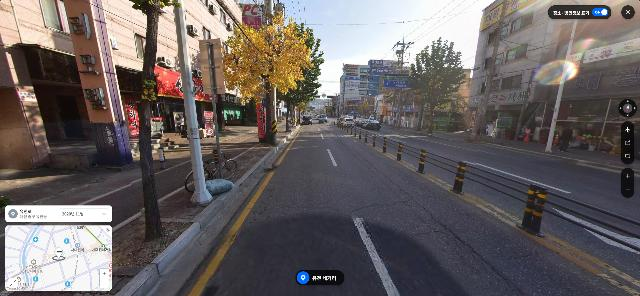ginkgo: (223, 0, 317, 147)
other: (127, 0, 173, 240), (407, 35, 464, 133), (284, 22, 323, 132)
